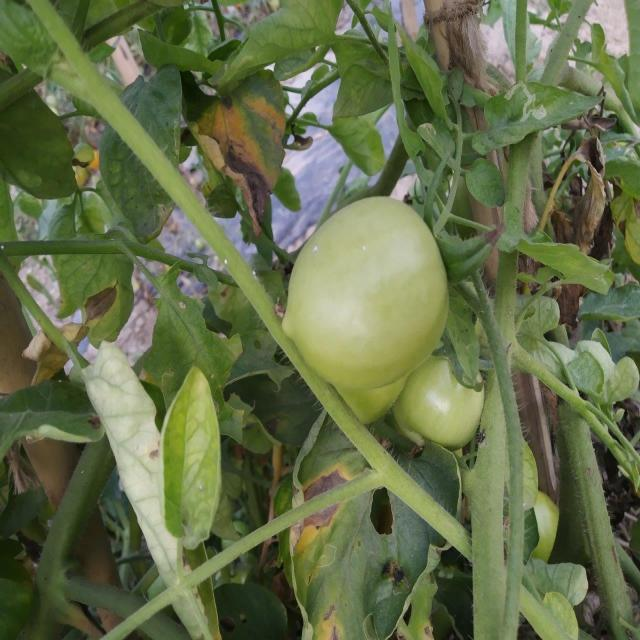Unripe: (279, 193, 451, 394)
